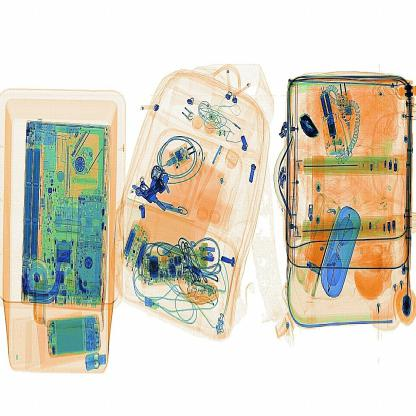scissors: (298, 110, 320, 146)
